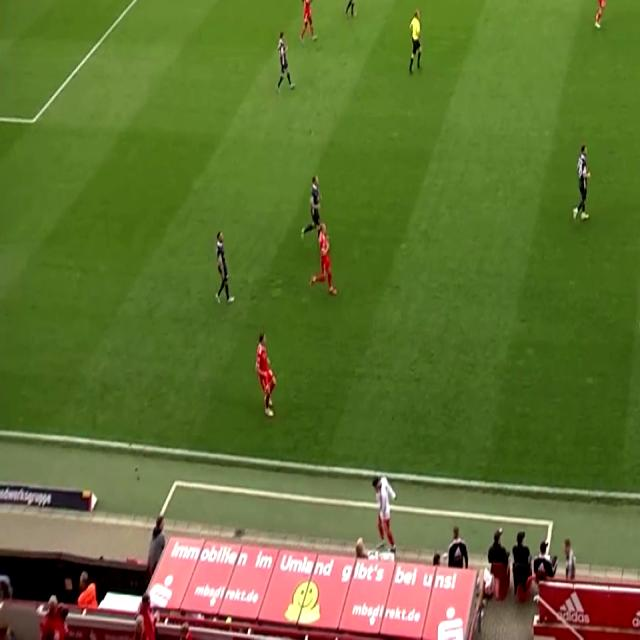referee: (402, 5, 430, 80)
soccer-player: (248, 328, 288, 424), (306, 222, 346, 306), (206, 226, 242, 312), (566, 142, 599, 232), (272, 32, 297, 98), (293, 0, 319, 47), (587, 0, 614, 41), (339, 0, 364, 24), (638, 271, 640, 363)
